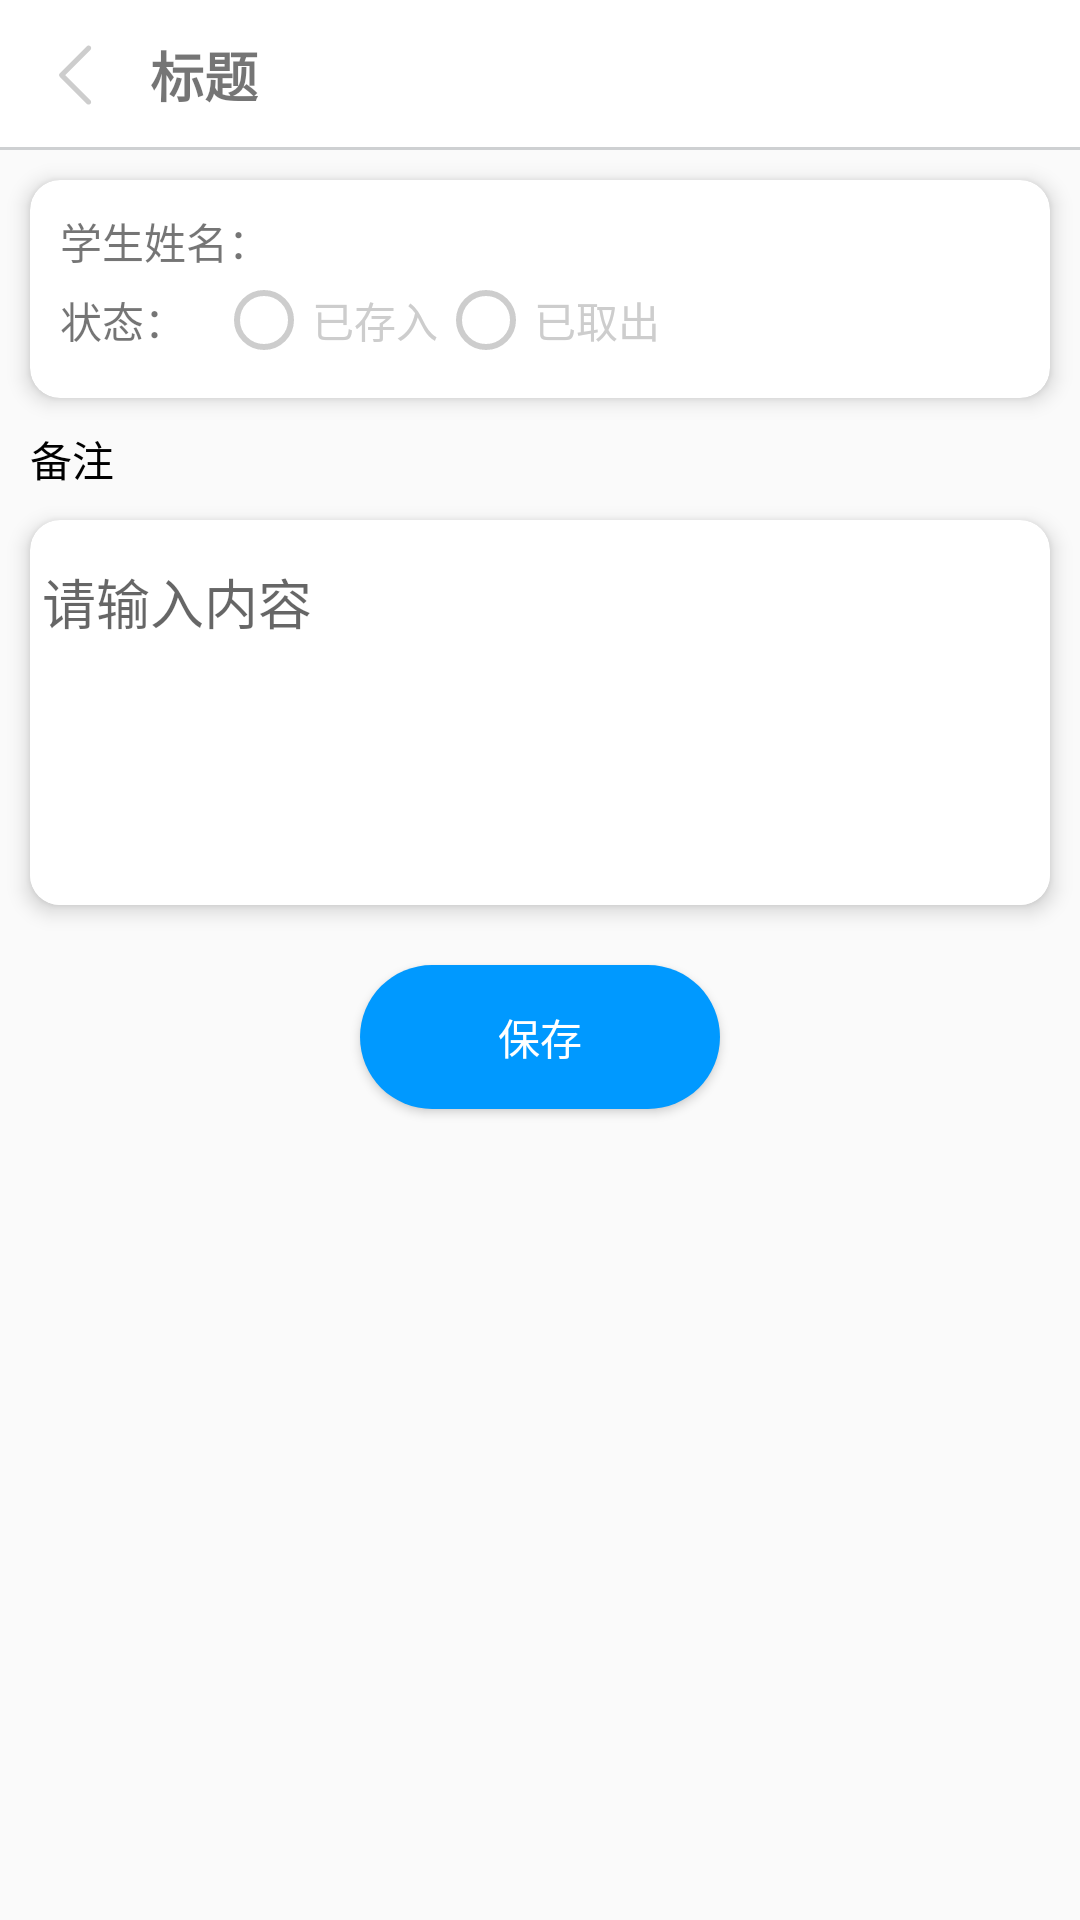

Named icons in this screenshot (1080 × 1920) and their centers, (x,y):
back: (75,75)
